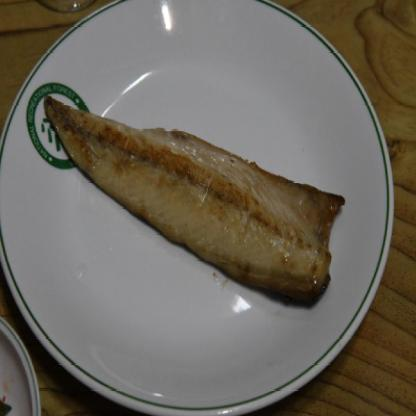Peixe: (39, 84, 359, 332)
